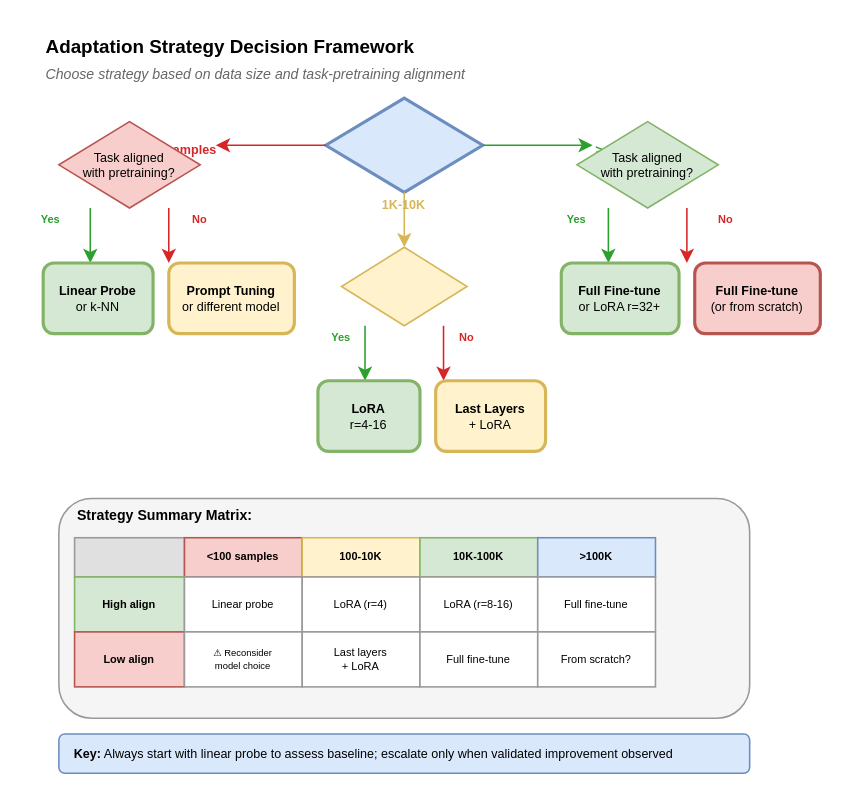
Some shapes in this 848 by 801 pixel diagram are drawn without their labels. The shapes that lost their labels are listed below. From the top down, each one's box as (x1, y1, x2, y2) in pixels, then its label:
(323, 96, 484, 193): How much labeled data ?
(340, 246, 467, 326): Task aligned?
